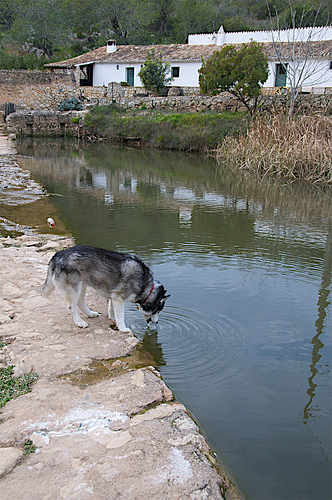dog: (40, 245, 170, 336)
